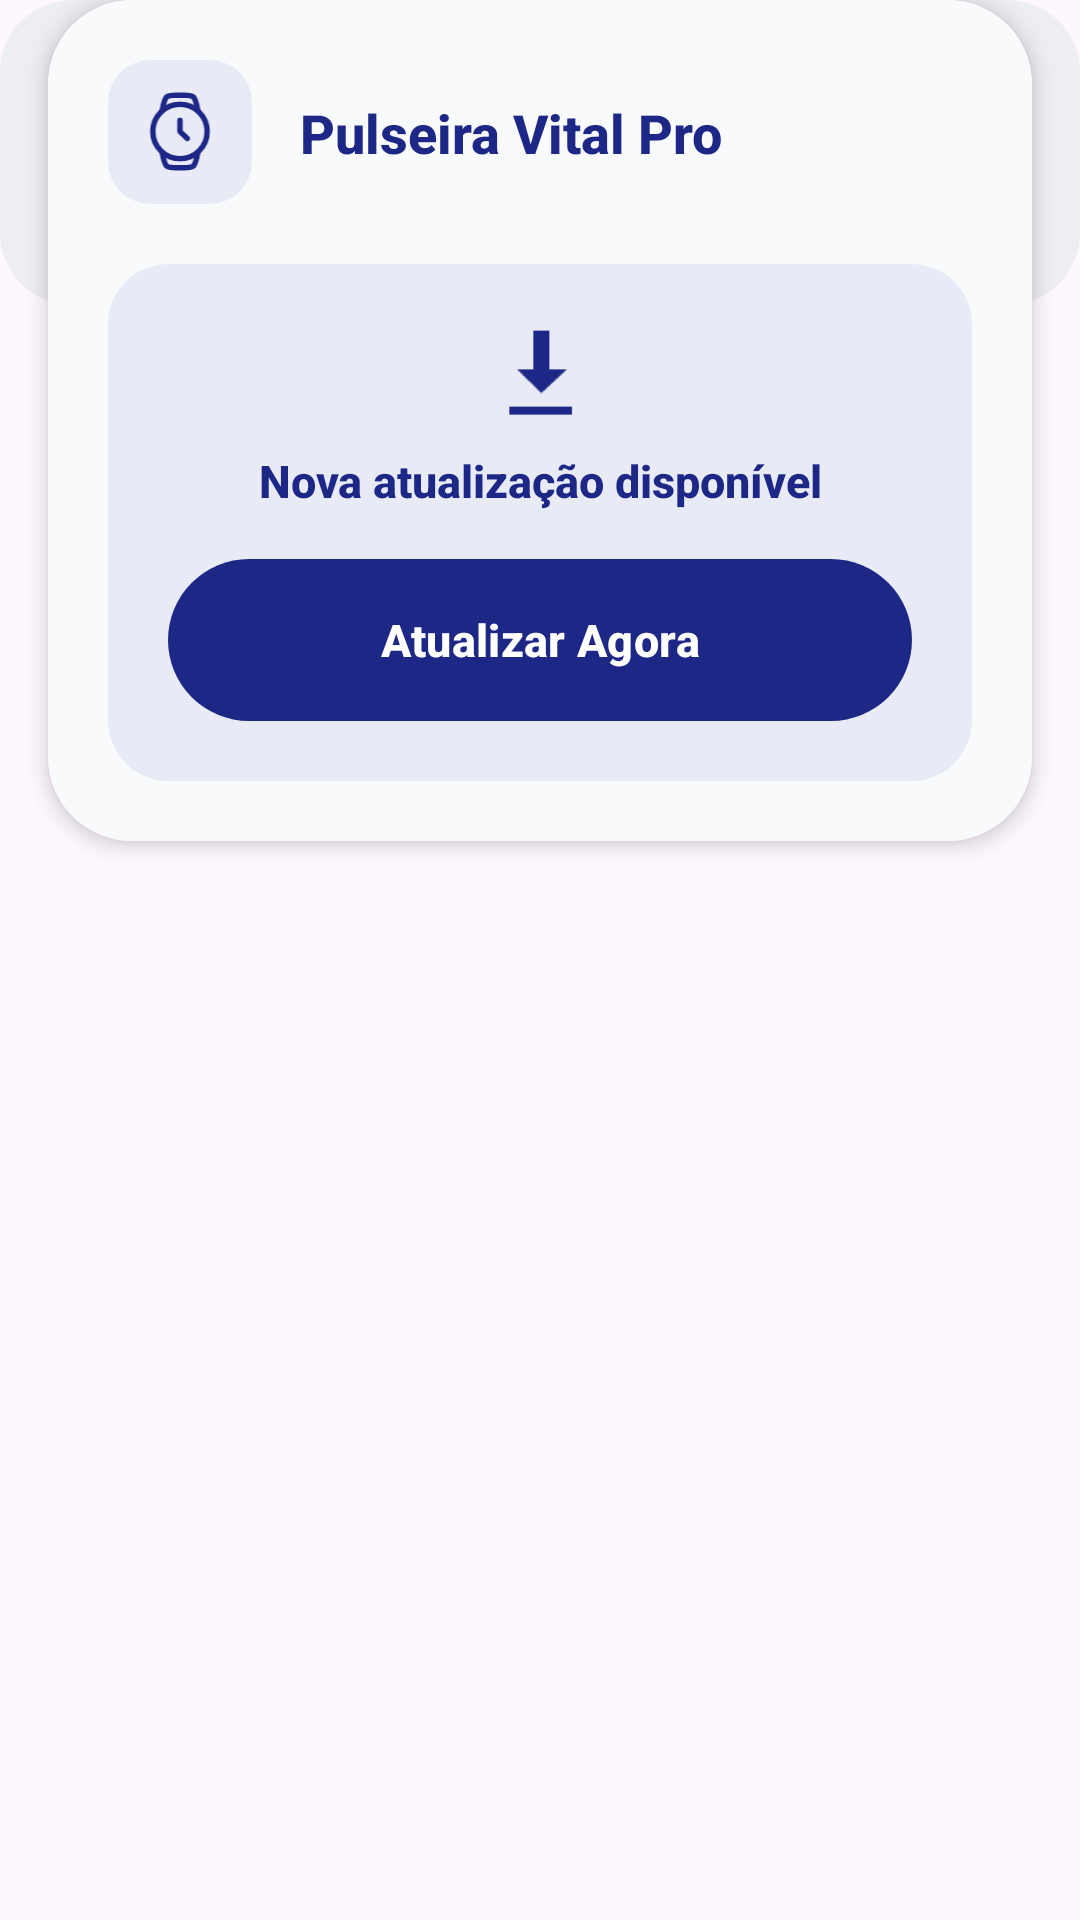

Named icons in this screenshot (1080×1920) and their bounding boxes, (x1, y1, x2, y2):
download done: (509, 330, 573, 415)
smartwatch: (149, 92, 211, 171)
